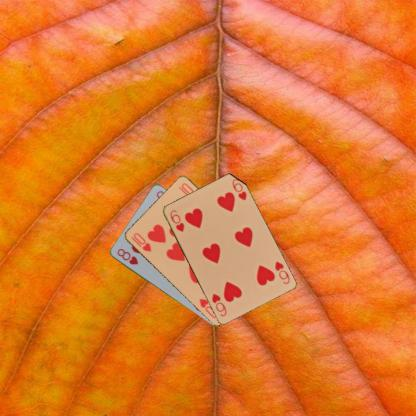10h: (128, 230, 152, 253)
6h: (272, 258, 291, 286), (167, 207, 185, 233)
8h: (115, 246, 140, 266)
